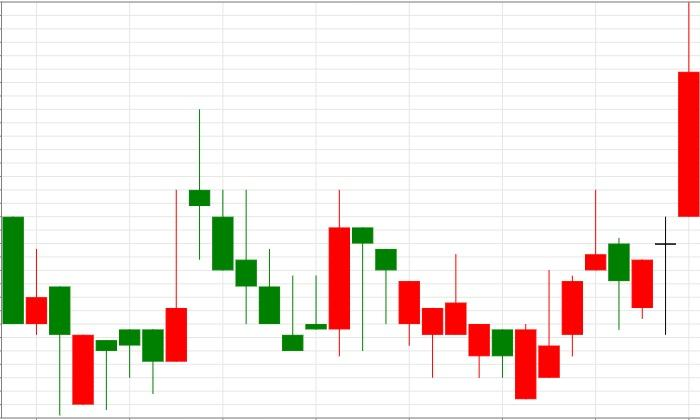inverse_hammer_rise: (189, 108, 304, 351)
